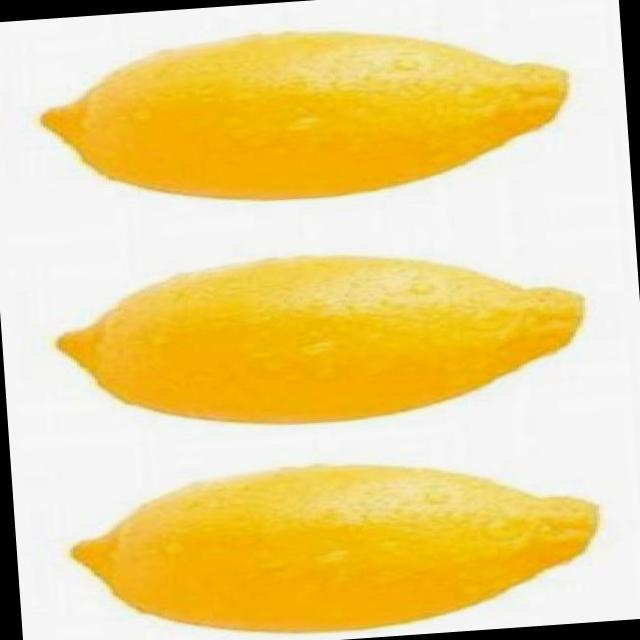mango: (31, 10, 581, 251), (48, 237, 589, 440), (58, 446, 604, 640)
